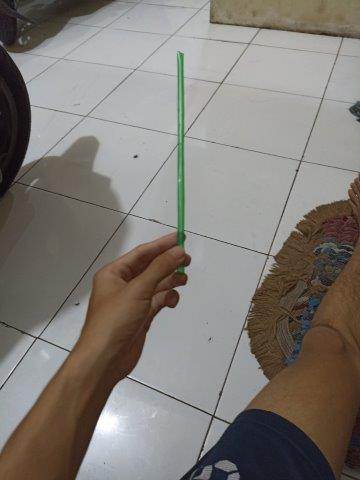sedotan: (177, 52, 185, 274)
